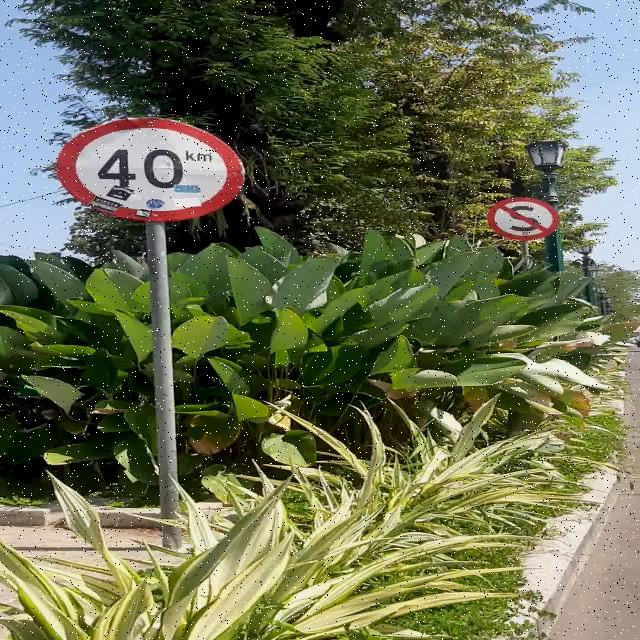Kecepatan Maks. 40 km: (54, 116, 245, 222)
